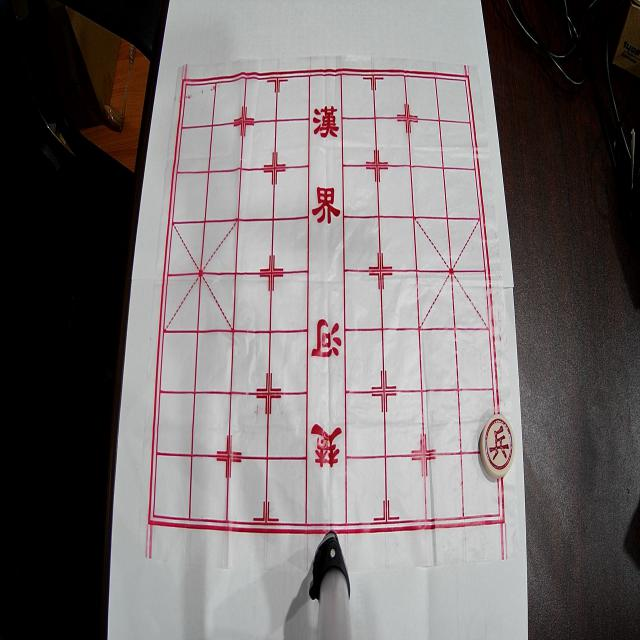red-soldier: (480, 414, 515, 479)
